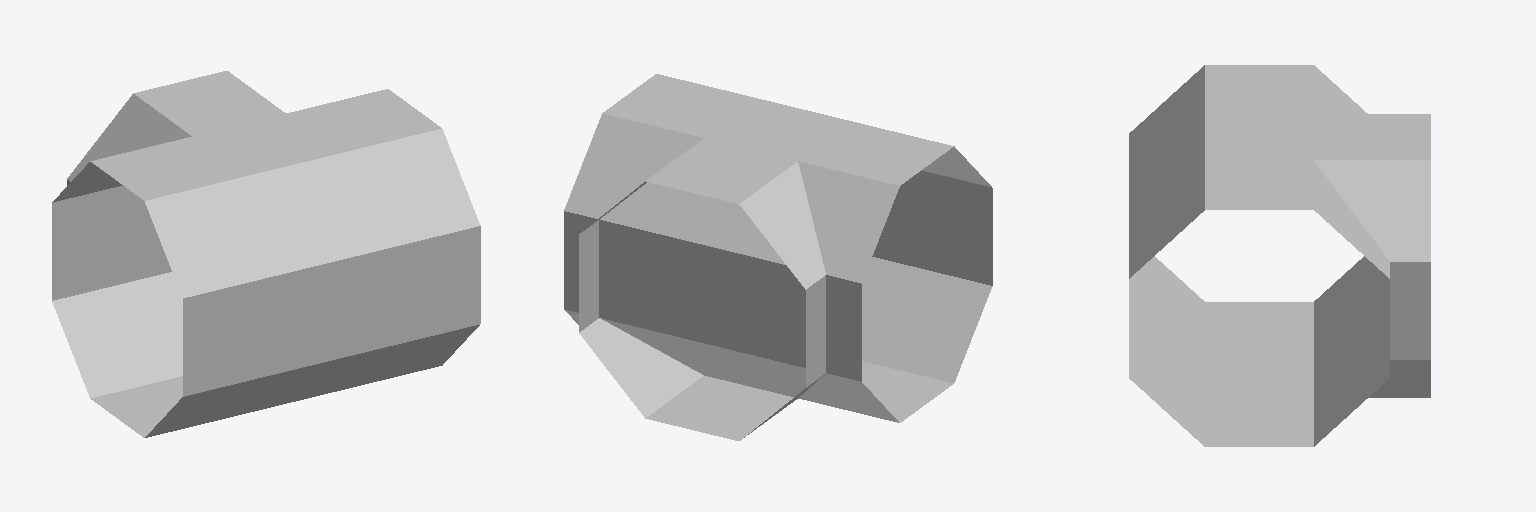
File: pipeJunktion.obj
The picture shows the model from 3 angles: view 1: azimuth 30°, elevation 25°; view 2: azimuth 150°, elevation 25°; view 3: azimuth 270°, elevation 25°; orthographic projection.
Visible parts, largest first — view 1: mesh01; view 2: mesh01; view 3: mesh01.
Part boxes in pixels (x1,y1,x2,y2): mesh01: (52, 71, 480, 437); mesh01: (564, 74, 992, 440); mesh01: (1129, 65, 1430, 446).
Bounding box in the file's own units: 1 × 0.7611 × 0.8806.